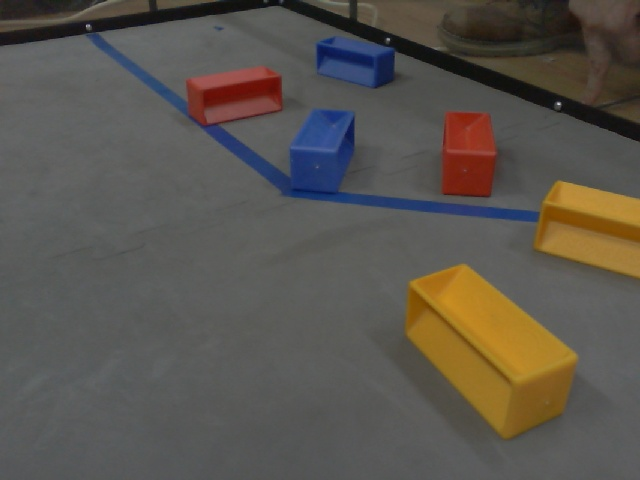BlueSample: (284, 104, 358, 195), (313, 31, 396, 91)
RedSample: (182, 64, 284, 127), (438, 106, 499, 201)
YellowSample: (397, 260, 578, 440), (530, 175, 639, 280)
